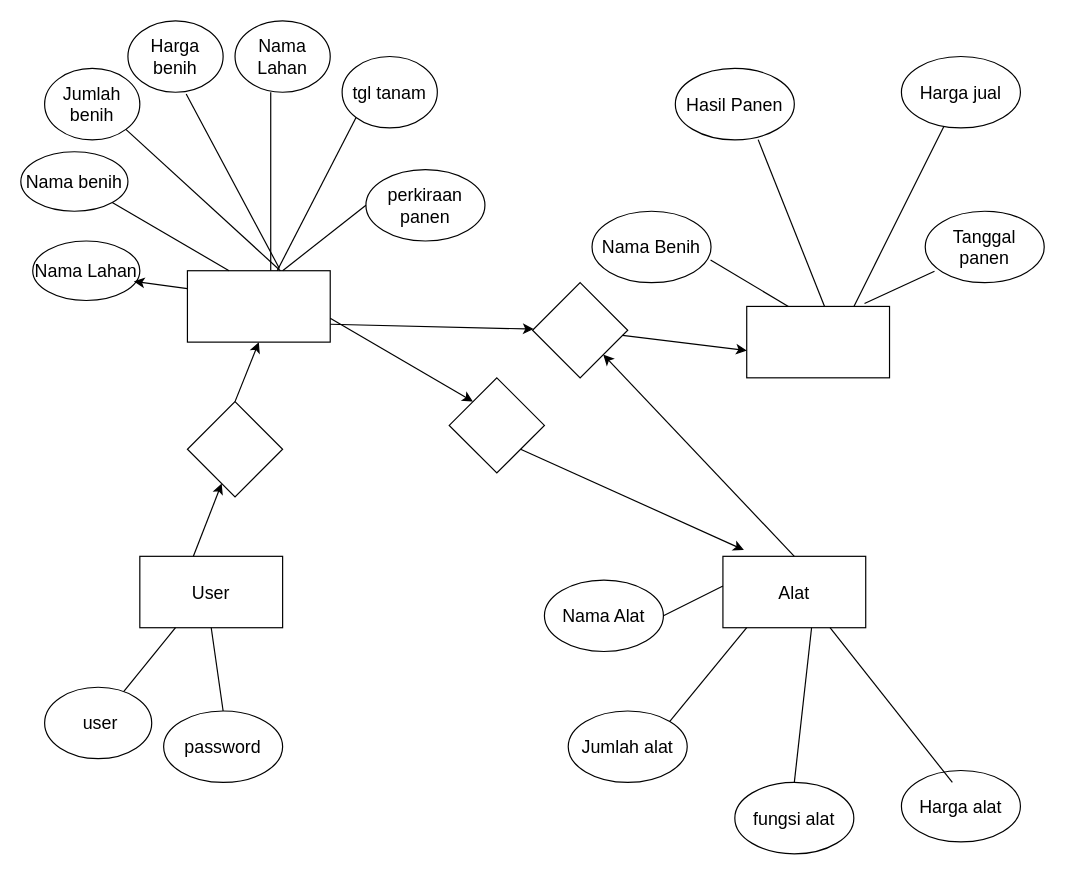
Some shapes in this 1065 by 875 pixel diagram are drawn without their labels. The shapes that lost their labels are listed below. From the top down, each one's box as (x1, y1, x2, y2) in pixels, then its label:
(186, 270, 330, 342): Penanaman
(531, 281, 628, 378): Hasil
(746, 305, 890, 378): Panen
(448, 377, 544, 473): Perawatan
(186, 400, 283, 497): Input
